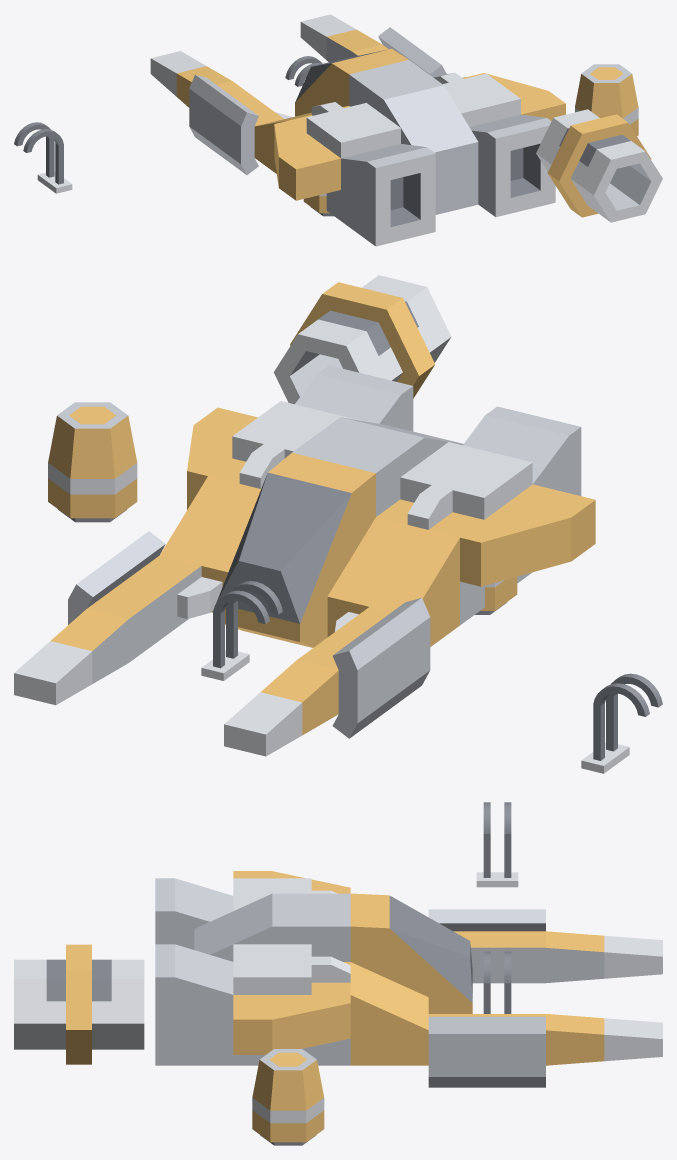
Rendered from miner_lvl2.glb.
The picture shows the model from 3 angles, top to bottom: view 1: azimuth 30°, elevation 25°; view 2: azimuth 150°, elevation 25°; view 3: azimuth 270°, elevation 25°; orthographic projection. The views are drawn at different scales.
Parts seen in each view (by area): view 1: craft_miner.001, pipe_ring.001, machine_barrel.001, cables.002, cables.001, machine_barrel.002; view 2: craft_miner.001, pipe_ring.001, machine_barrel.001, cables.001, cables.002, machine_barrel.002; view 3: craft_miner.001, pipe_ring.001, machine_barrel.001, cables.002, cables.001.
Boxes of the visible parts, x1,y1,x2,y2 form: craft_miner.001: [150, 14, 565, 246]; pipe_ring.001: [536, 109, 662, 222]; machine_barrel.001: [575, 64, 638, 135]; cables.002: [14, 122, 72, 193]; cables.001: [285, 56, 322, 86]; machine_barrel.002: [303, 193, 333, 216]; craft_miner.001: [14, 365, 595, 756]; pipe_ring.001: [273, 275, 451, 404]; machine_barrel.001: [48, 402, 137, 522]; cables.001: [201, 581, 282, 680]; cables.002: [581, 673, 662, 773]; machine_barrel.002: [475, 577, 517, 614]; craft_miner.001: [155, 871, 662, 1087]; pipe_ring.001: [14, 944, 144, 1064]; machine_barrel.001: [252, 1049, 324, 1145]; cables.002: [476, 802, 518, 887]; cables.001: [483, 951, 511, 1013].
Bounding box in the file's own units: 3.62 × 0.78 × 3.49.
